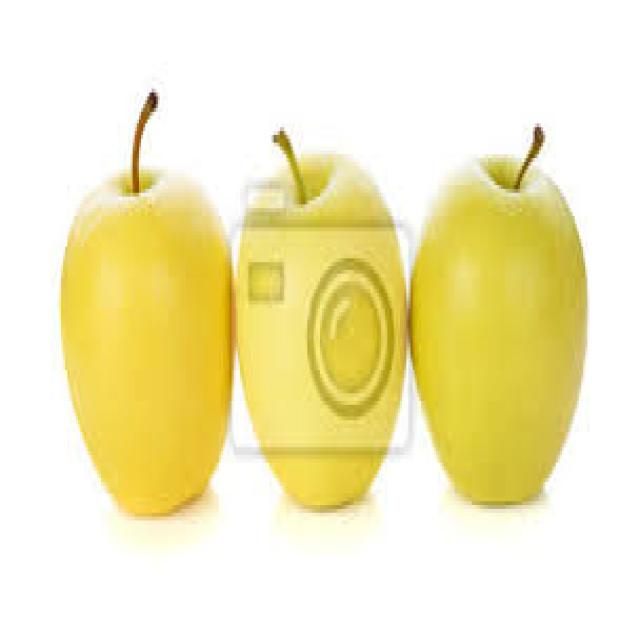non_orange: (207, 100, 412, 552), (43, 134, 258, 537), (392, 128, 590, 552)
